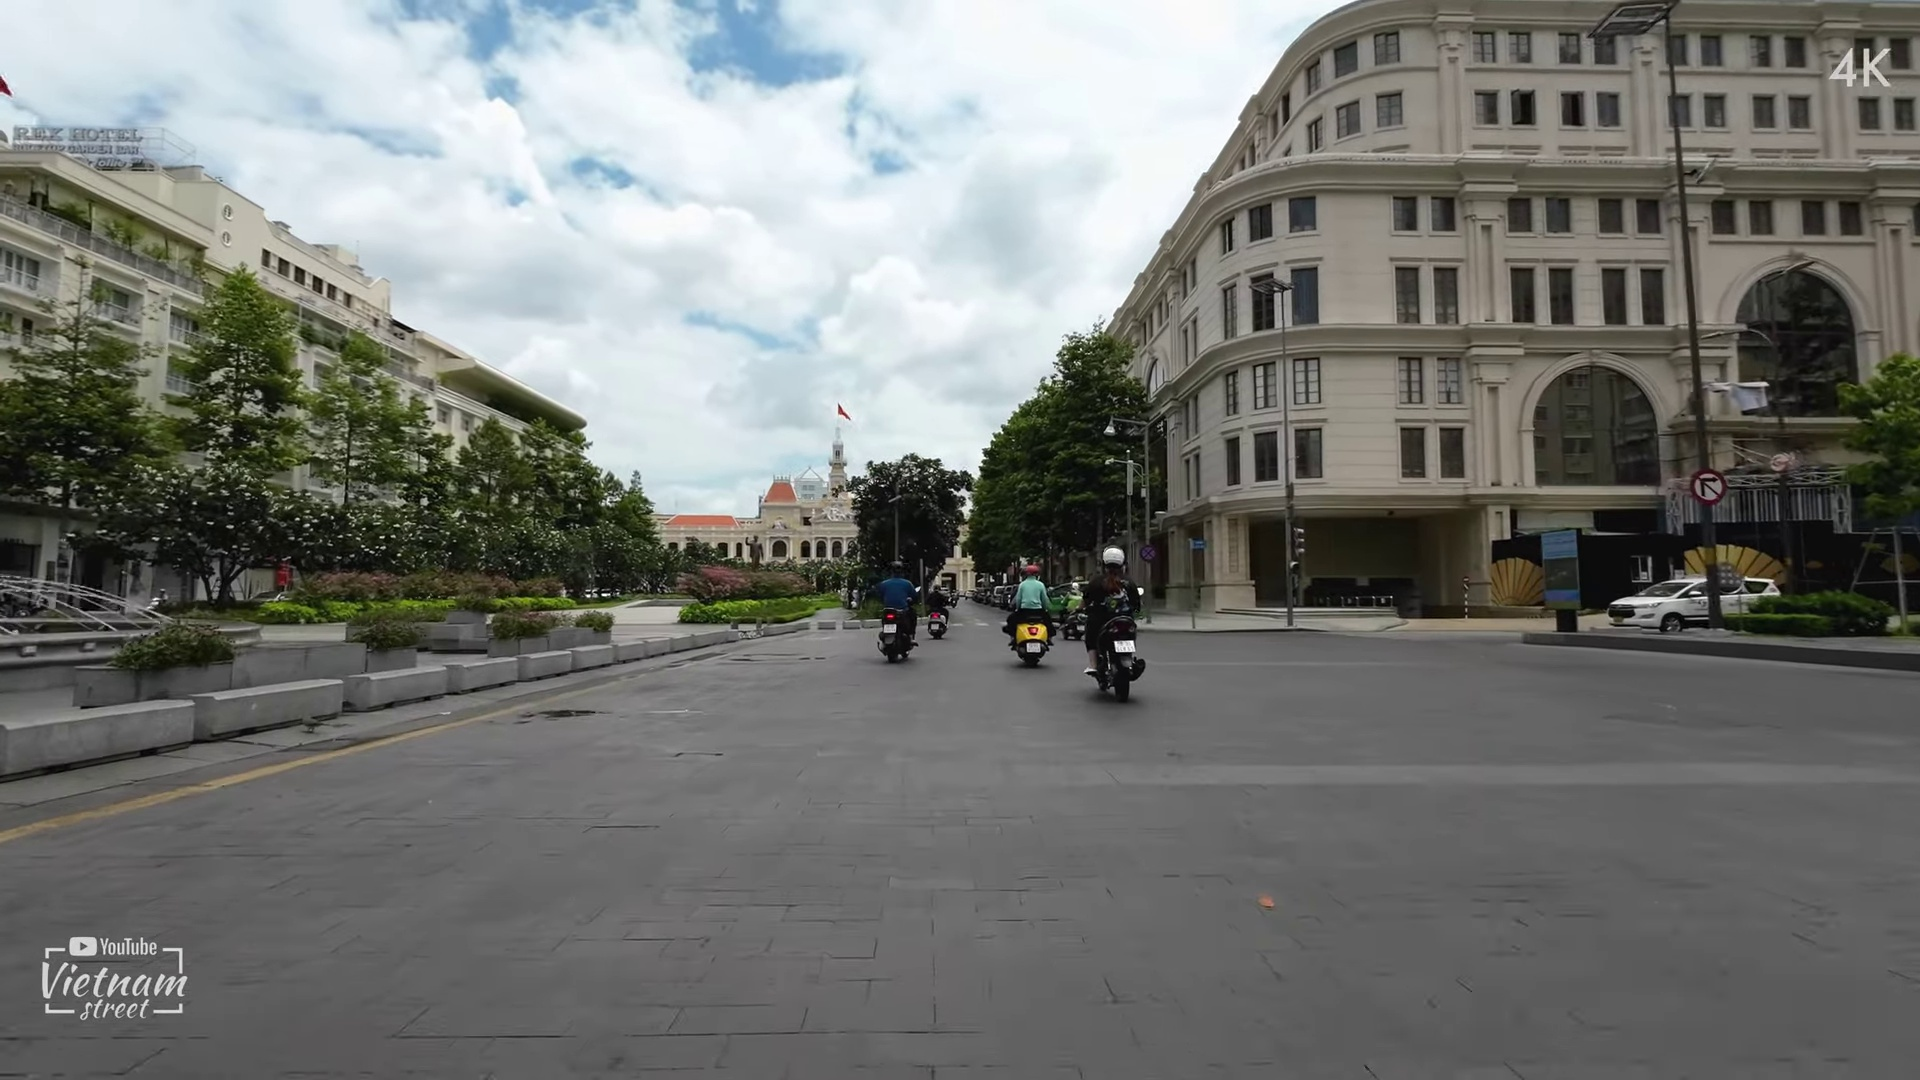cam_re_phai: (1687, 464, 1727, 506)
